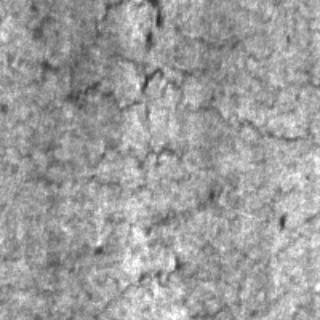crazing: (56, 0, 312, 166), (11, 77, 212, 205), (45, 192, 273, 300)
